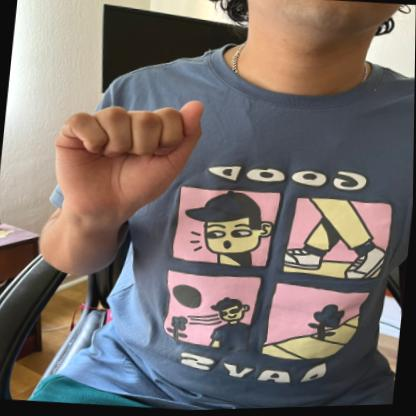A: (51, 86, 210, 218)
